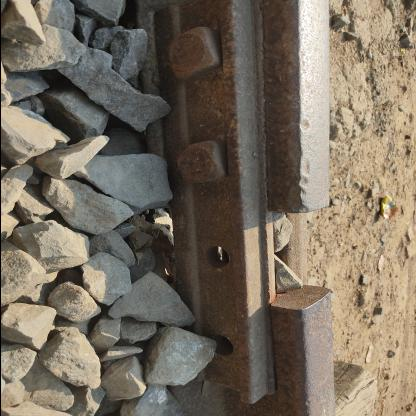Defective 2: (247, 154, 340, 344)
Defective 3: (149, 6, 277, 416)
